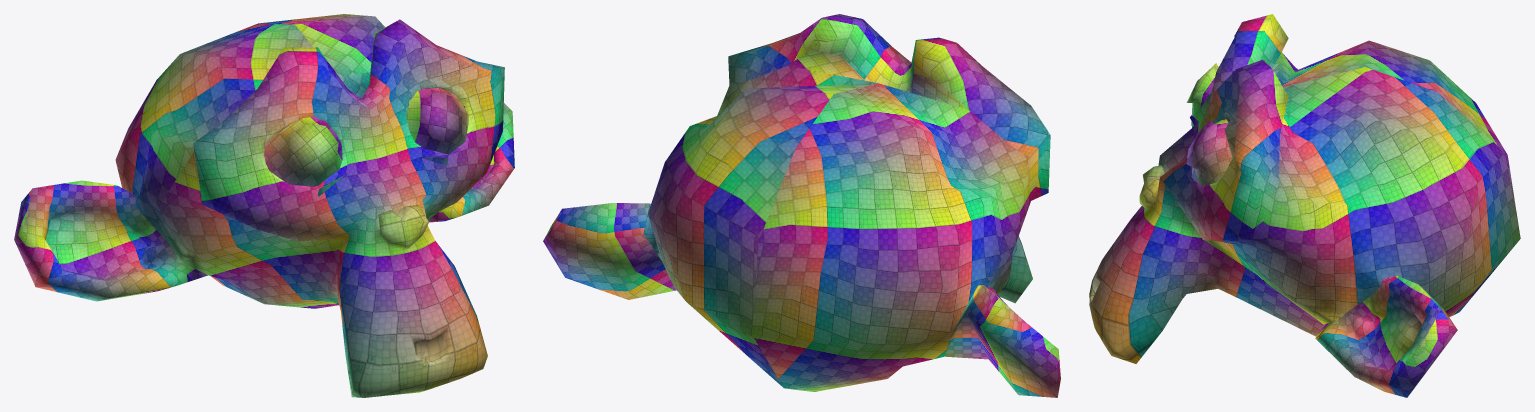
The model's file is Suzanne.glb.
3 views of the same model, side by side, from view 1: azimuth 30°, elevation 25°; view 2: azimuth 150°, elevation 25°; view 3: azimuth 270°, elevation 25° (orthographic). The views are drawn at different scales.
Parts seen in each view (by area): view 1: Suzanne; view 2: Suzanne; view 3: Suzanne.
Boxes of the visible parts, x1=… form: Suzanne: x1=14, y1=14, x2=514, y2=397; Suzanne: x1=543, y1=14, x2=1060, y2=397; Suzanne: x1=1089, y1=14, x2=1520, y2=397.
Size of the model in its own units: 2.73 by 1.59 by 2.09.
1 material, 1 textured.
